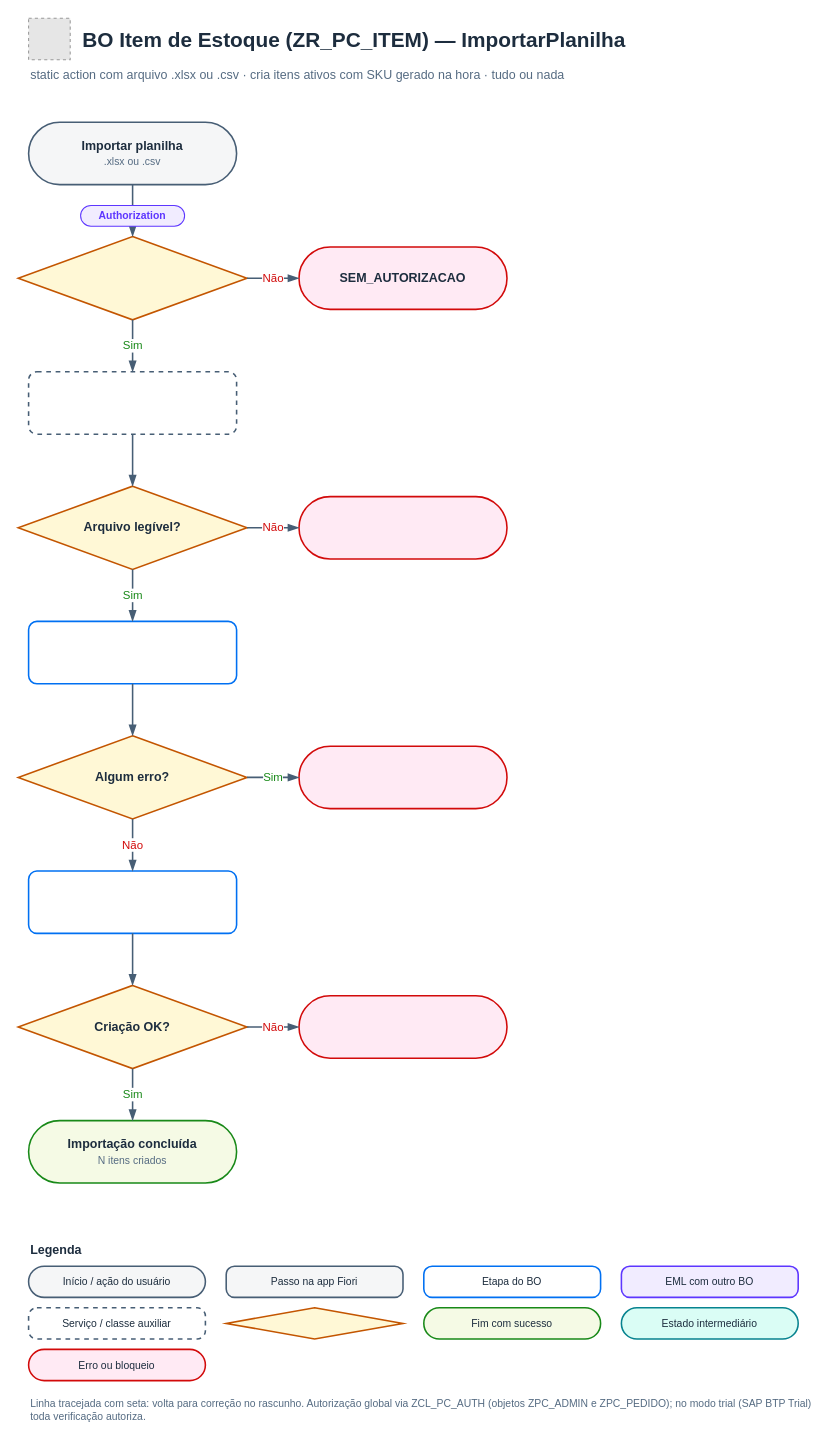
This 837x1451 diagram has some shape labels left out. Grey dashed boxes stand in for pictures. The shapes that lost their labels are listed below. From the top down, each one's centre as x and y in pixels, then its label:
At point 132,277: "Autorizado? ZPC_ADMIN · criar".
At point 132,403: "Ler o arquivo ZCL_PC_PLANILHA: colunas e sinônimos".
At point 402,527: "Importação cancelada colunas ausentes ou arquivo inválido".
At point 132,652: "Validar todas as linhas nome único, categoria, estoque, preço, moeda".
At point 402,777: "Erros por linha nada é gravado".
At point 132,902: "Gerar SKU e criar itens (EML) SKU na fase de interação (ZPC_NR)".
At point 402,1027: "Importação cancelada mensagens por linha".
At point 314,1323: "Decisão".
